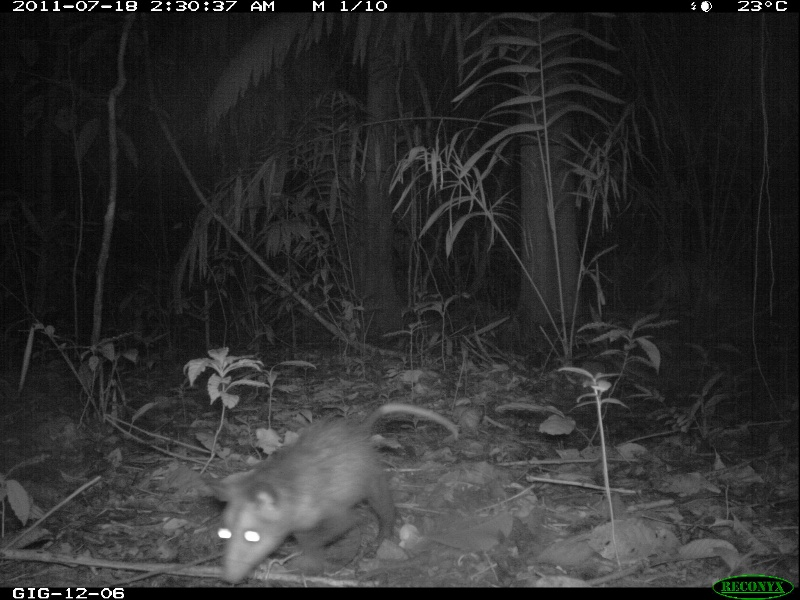opossum: (216, 401, 462, 585)
